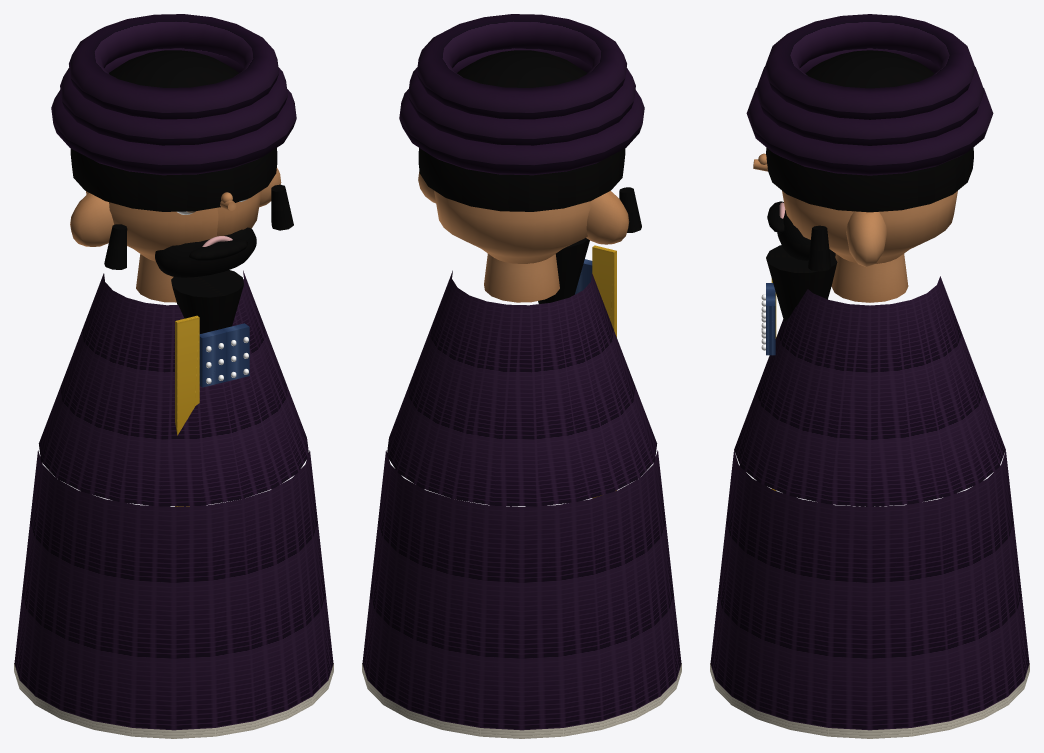
Rendered from sadducee_authority.glb.
3 renders of one model, left to right at view 1: azimuth 30°, elevation 25°; view 2: azimuth 150°, elevation 25°; view 3: azimuth 270°, elevation 25°, orthographic.
Visible parts, largest first — view 1: Character_sadducee_opposer, head; view 2: Character_sadducee_opposer, head; view 3: Character_sadducee_opposer, head.
Part boxes in pixels (left/top/right/bottom): Character_sadducee_opposer: left=14, top=14, right=333, bottom=738; head: left=86, top=190, right=261, bottom=261; Character_sadducee_opposer: left=362, top=14, right=681, bottom=738; head: left=434, top=190, right=590, bottom=263; Character_sadducee_opposer: left=710, top=14, right=1029, bottom=738; head: left=782, top=191, right=957, bottom=263.
Bounding box in the file's own units: 0.8444 × 1.8 × 0.8444.
Materials: 12 (7 with a texture image).
